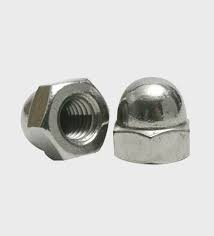Thread: (54, 92, 102, 149)
